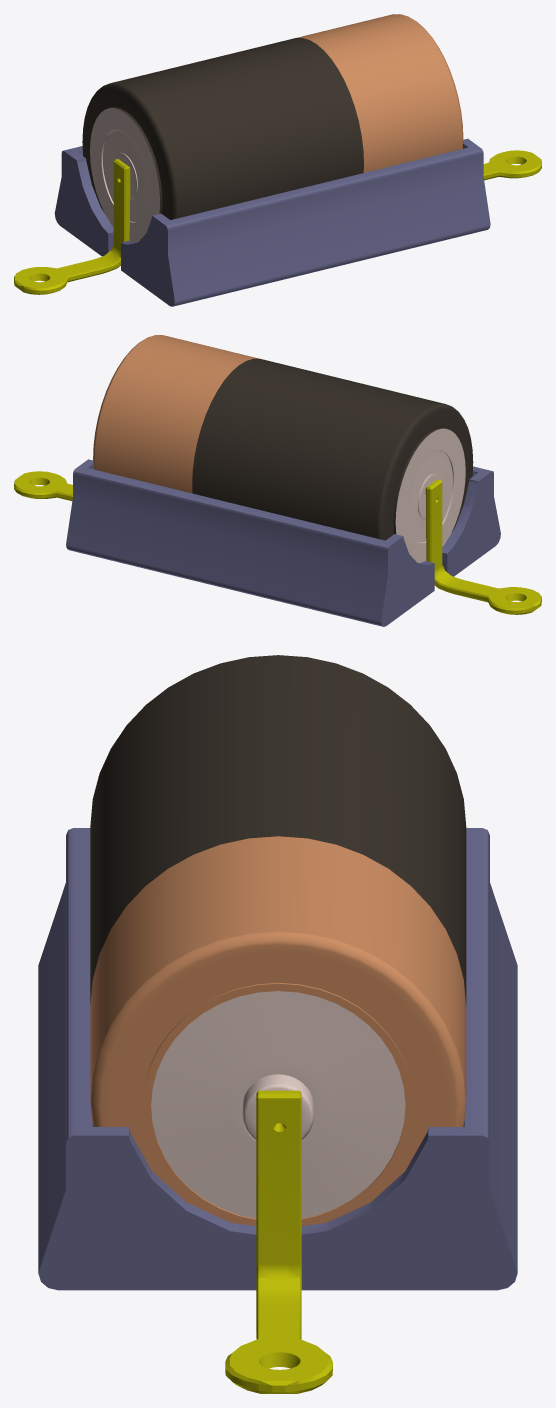
Rendered from batterySet.glb.
3 renders of one model, top to bottom at view 1: azimuth 30°, elevation 25°; view 2: azimuth 150°, elevation 25°; view 3: azimuth 270°, elevation 25°, orthographic. The views are drawn at different scales.
Visible parts, largest first — view 1: case1, polySurface6, polySurface3, polySurface5, modelLugLeft, modelLugRight; view 2: case1, polySurface6, polySurface3, polySurface5, modelLugLeft, modelLugRight; view 3: case1, polySurface3, polySurface6, polySurface4, modelLugRight.
Boxes of the visible parts, x1=… form: case1: x1=54, y1=138, x2=490, y2=306; polySurface6: x1=82, y1=38, x2=363, y2=219; polySurface3: x1=296, y1=14, x2=463, y2=172; polySurface5: x1=90, y1=108, x2=159, y2=242; modelLugLeft: x1=14, y1=159, x2=130, y2=294; modelLugRight: x1=483, y1=150, x2=541, y2=180; case1: x1=66, y1=459, x2=500, y2=626; polySurface6: x1=192, y1=358, x2=473, y2=540; polySurface3: x1=93, y1=335, x2=258, y2=493; polySurface5: x1=395, y1=428, x2=465, y2=563; modelLugLeft: x1=425, y1=479, x2=541, y2=614; modelLugRight: x1=14, y1=471, x2=72, y2=500; case1: x1=38, y1=828, x2=517, y2=1290; polySurface3: x1=90, y1=836, x2=466, y2=1226; polySurface6: x1=90, y1=655, x2=466, y2=1005; polySurface4: x1=151, y1=991, x2=405, y2=1218; modelLugRight: x1=225, y1=1090, x2=332, y2=1393.
Size of the model in its own units: 101 by 31.83 by 40.27.
